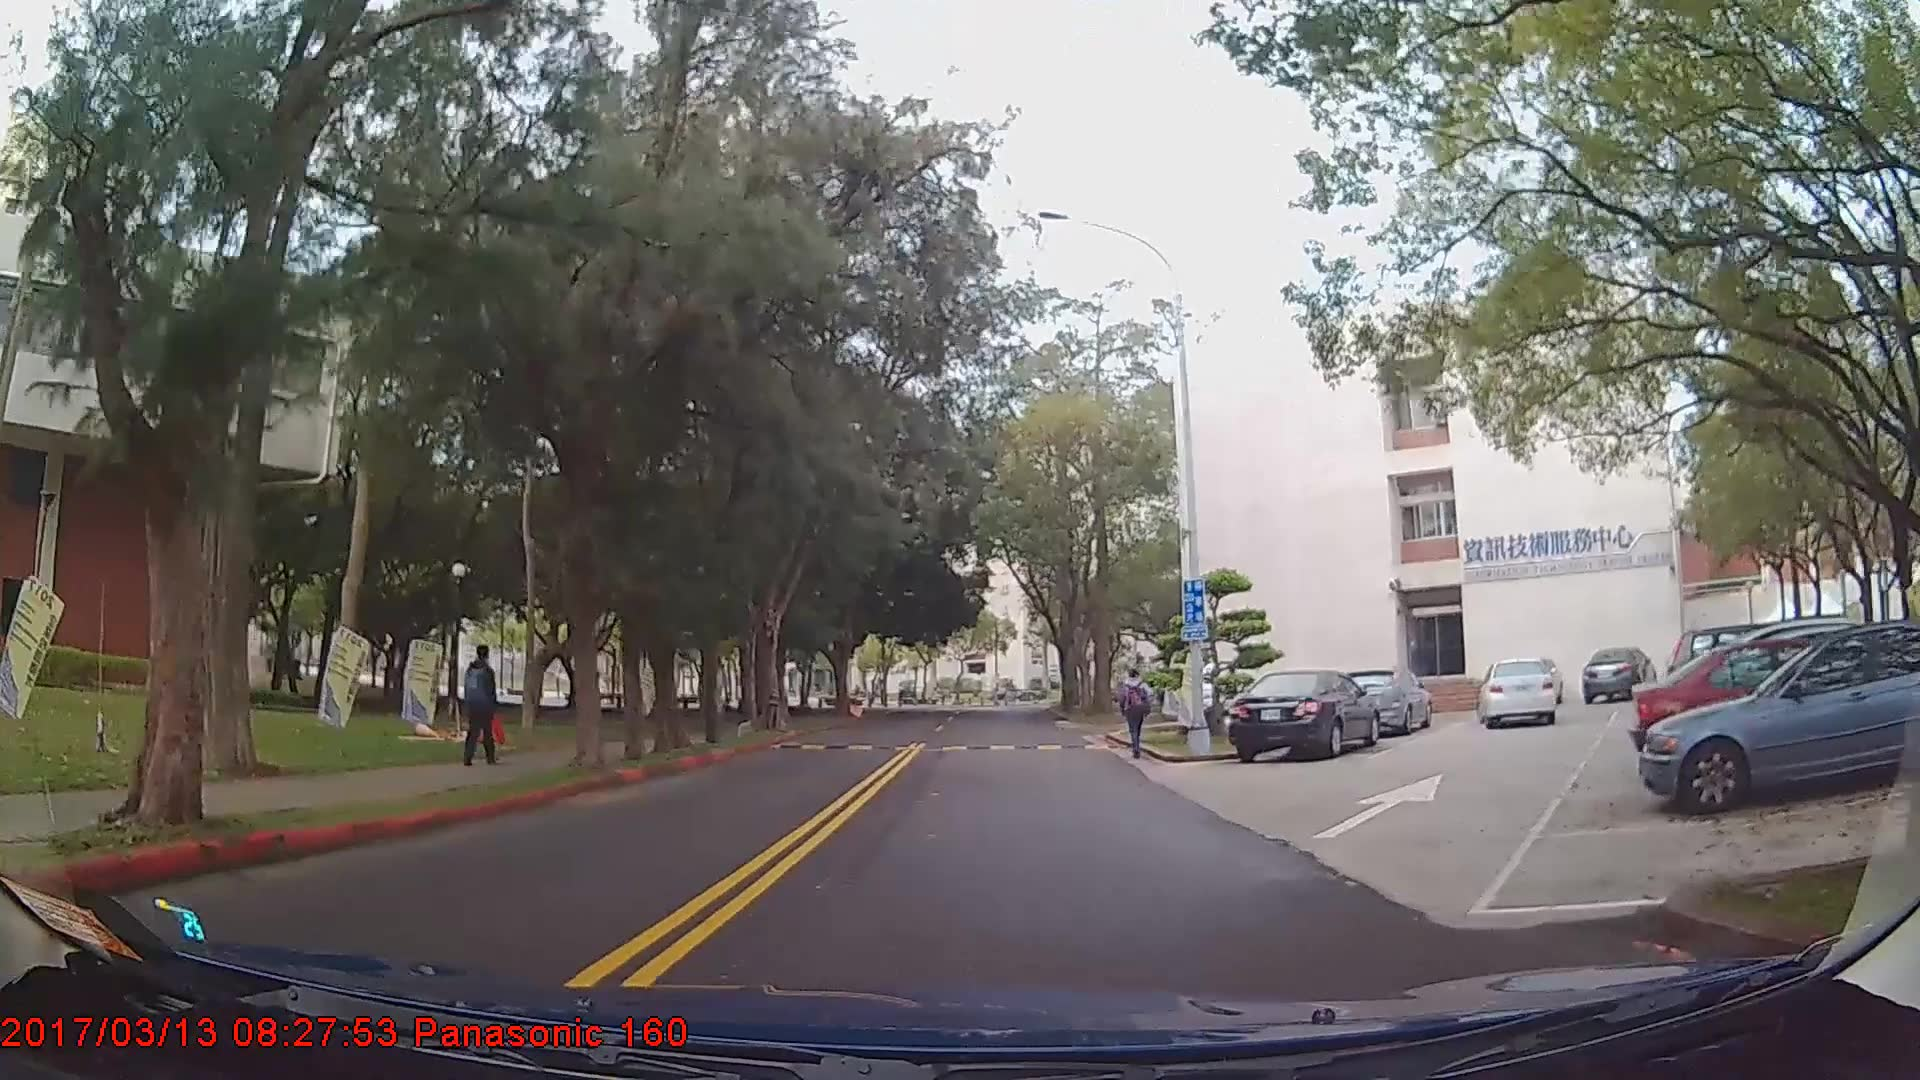pedestrian: (460, 648, 501, 770), (1121, 669, 1154, 762)
vehicle: (1634, 620, 1919, 811), (1627, 628, 1920, 770), (1228, 667, 1381, 760), (1339, 662, 1433, 735), (1479, 658, 1557, 727), (1580, 645, 1653, 703)
